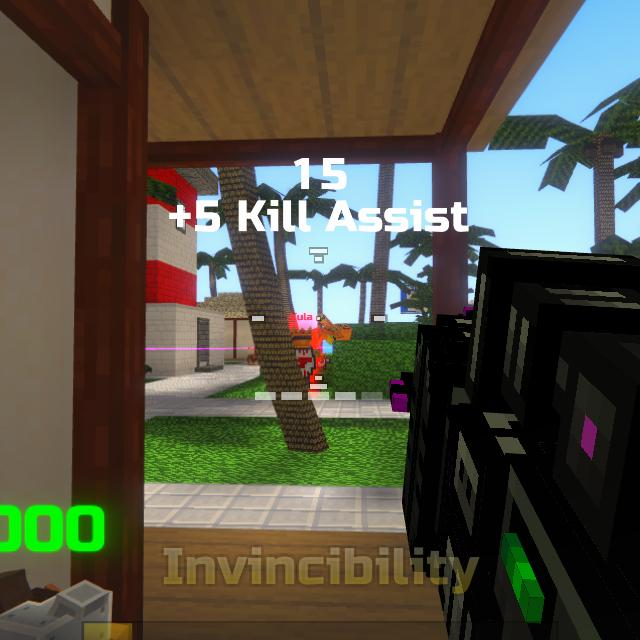Enemy: (298, 329, 321, 391)
